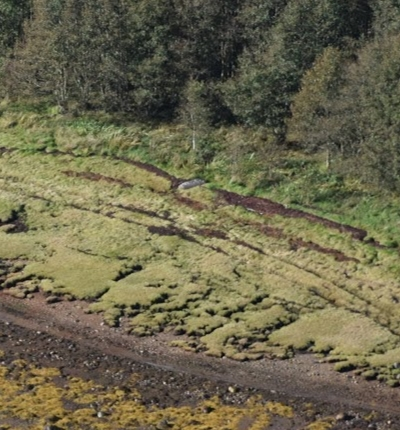white_in_green: (161, 156, 223, 207)
